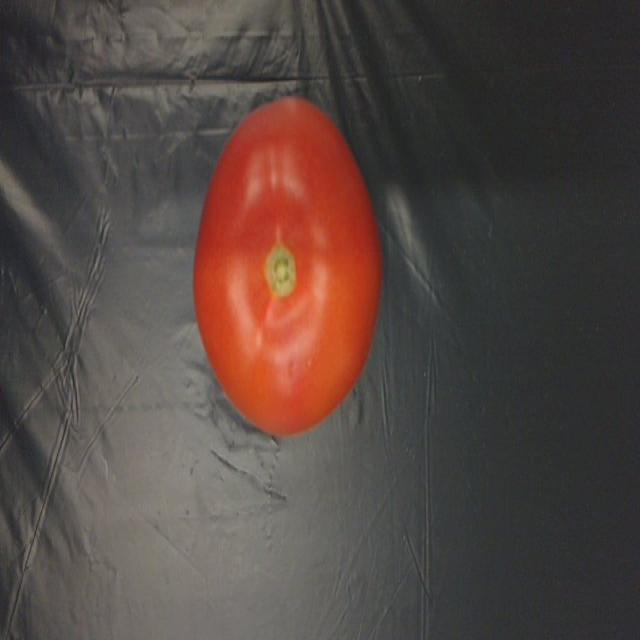kirmizi: (192, 86, 407, 446)
